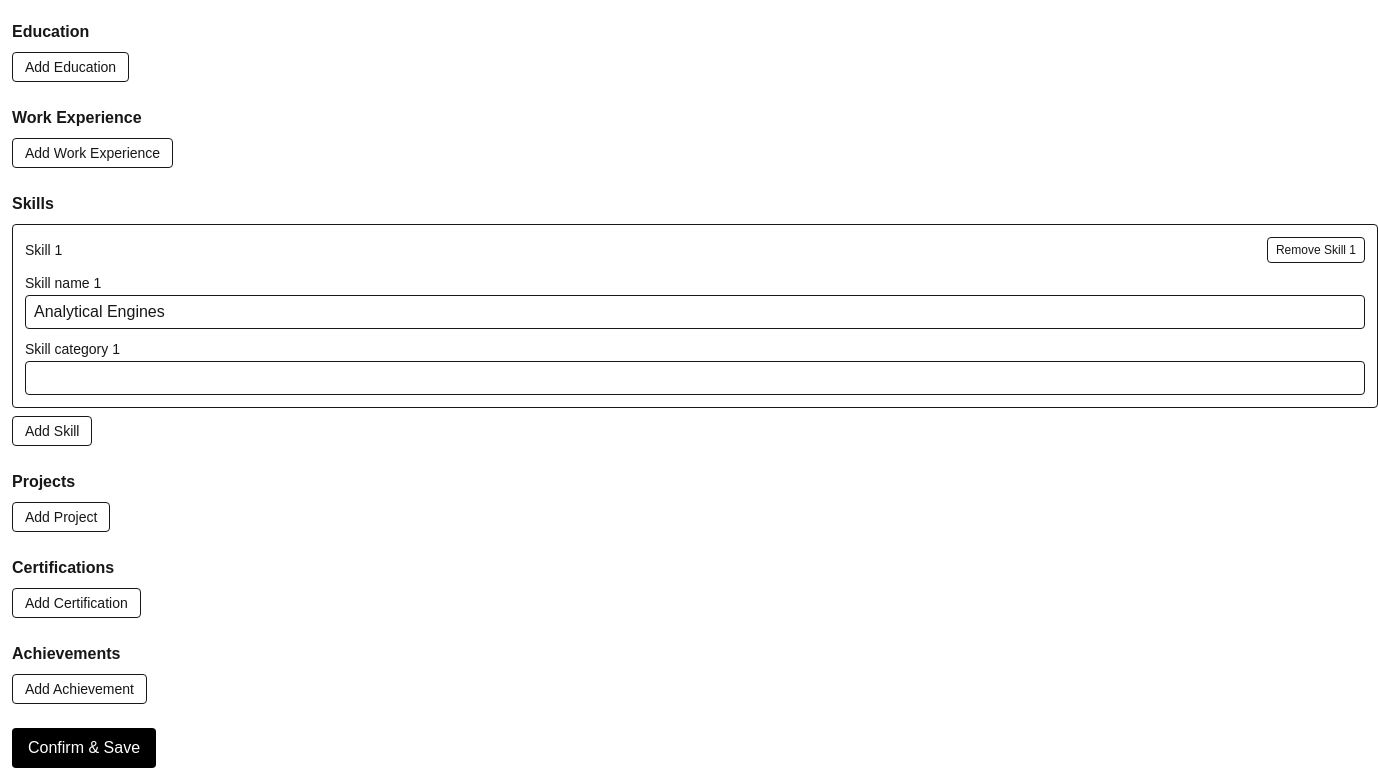
Test: ReviewForm › shows an error when the confirm request itself fails (network error)
(page scrolled)
Click the button "Confirm & Save" at x=84, y=748, box [12, 728, 156, 767]
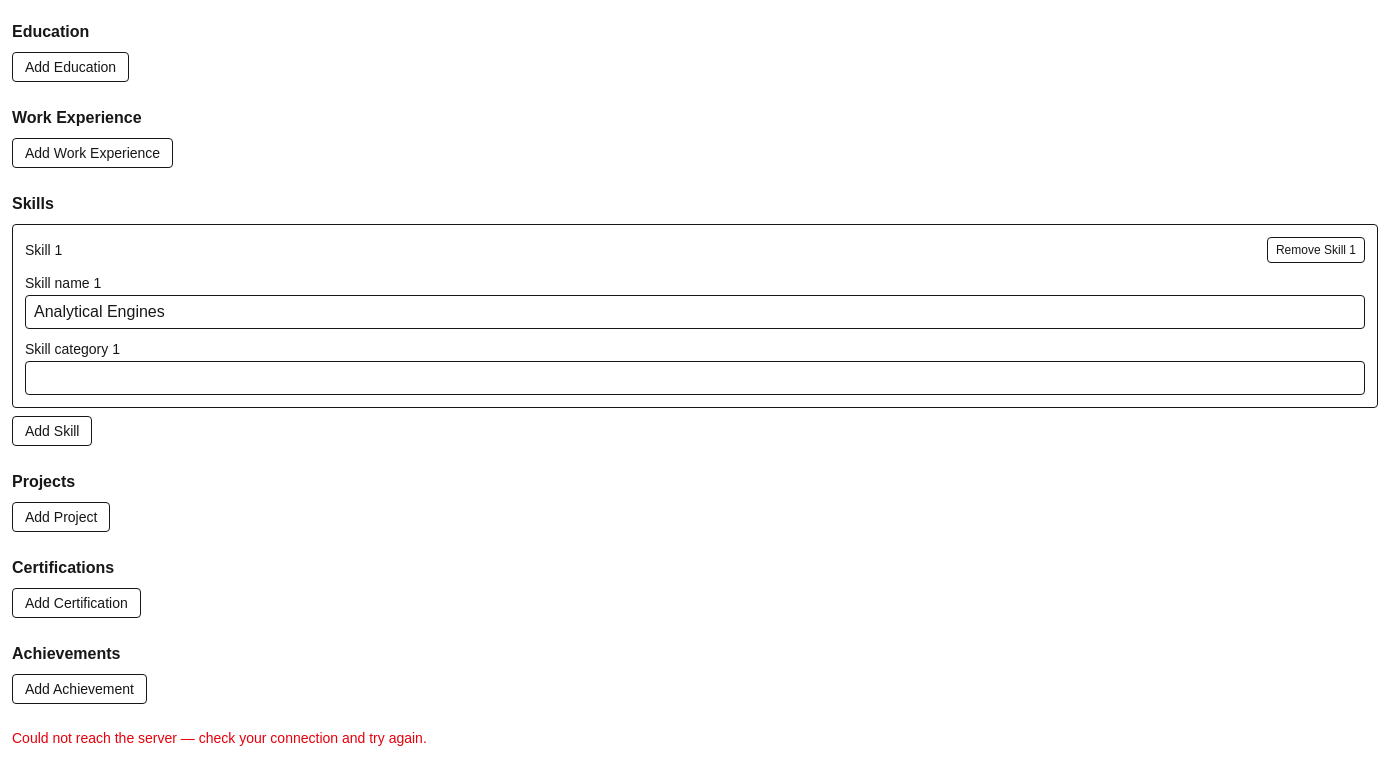
Result: the text "Could not reach the server" is shown at [12, 730, 427, 746]
